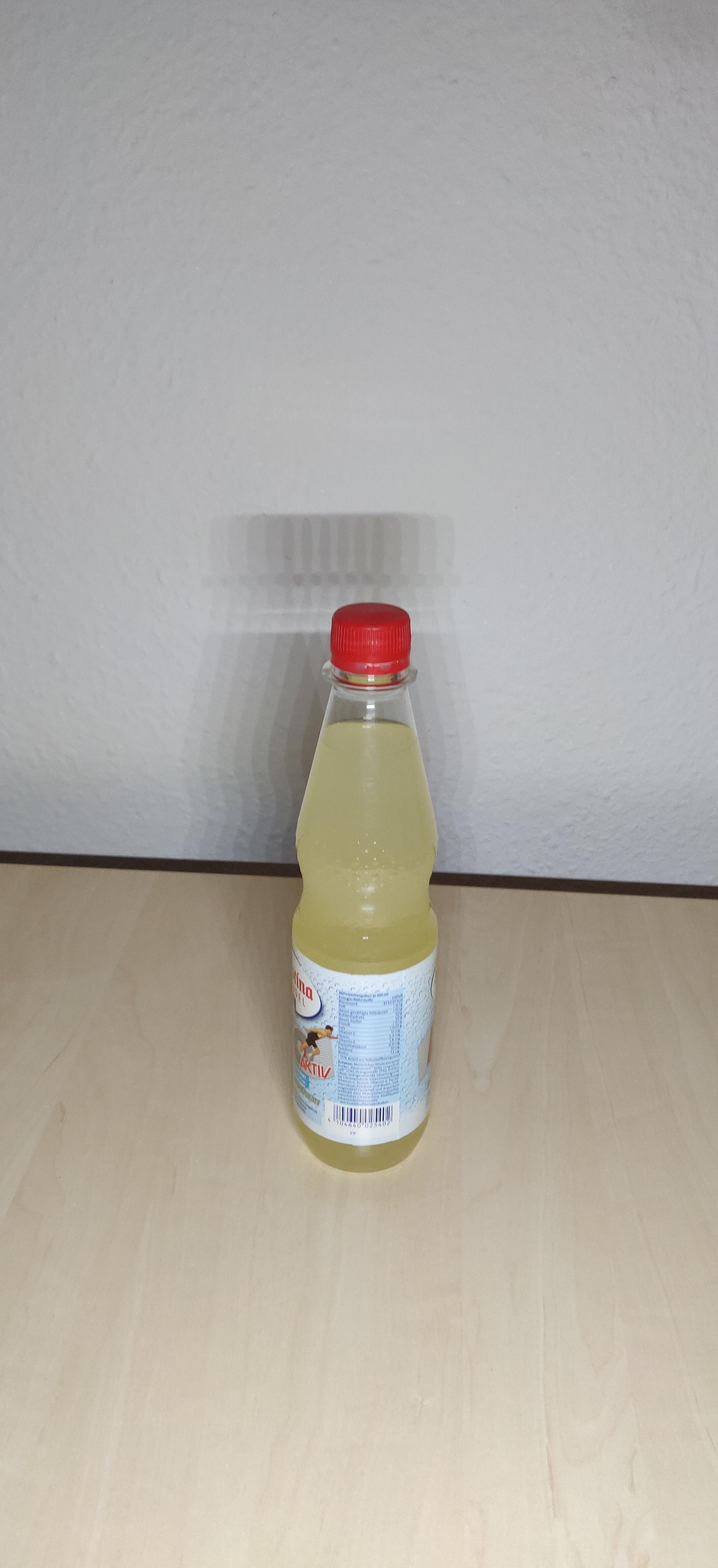bottle-plastic: (280, 594, 442, 1175)
